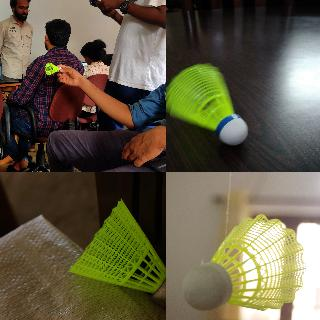shuttlecock: (182, 214, 306, 310), (67, 198, 165, 309), (166, 63, 249, 145), (45, 62, 61, 74)
